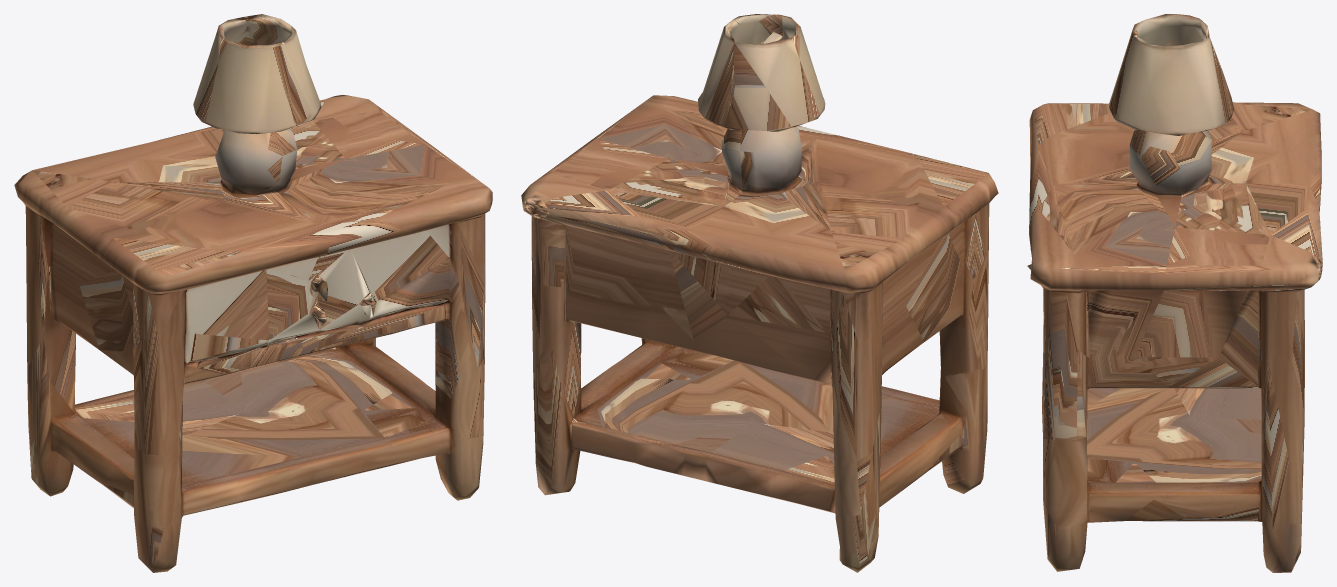
Rendered from nightstand.glb.
The picture shows the model from 3 angles, left to right: view 1: azimuth 30°, elevation 25°; view 2: azimuth 150°, elevation 25°; view 3: azimuth 270°, elevation 25°; orthographic projection.
Bounding box in the file's own units: 1.59 × 2 × 1.15.
Materials: 1 (1 with a texture image).
